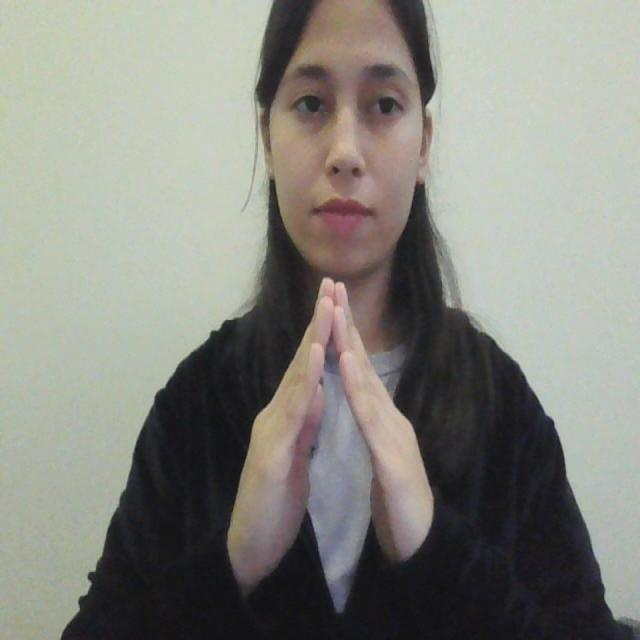Ev: (222, 274, 451, 604)
